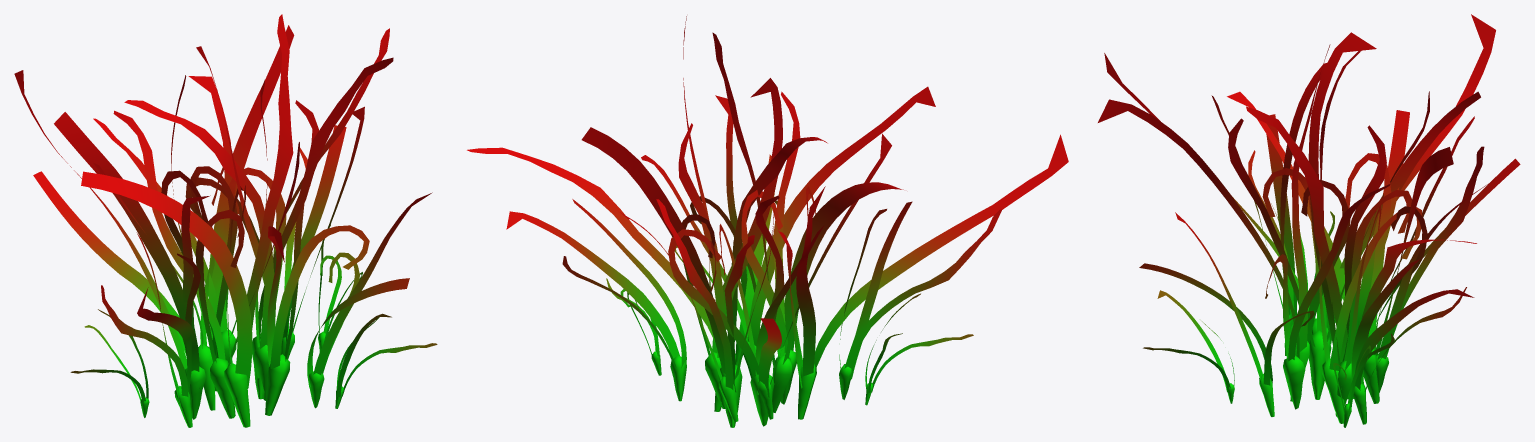
File: QXL_Ribbon_Grass_tbdpec3r_4_LOD0.fbx
The picture shows the model from 3 angles, left to right: view 1: azimuth 30°, elevation 25°; view 2: azimuth 150°, elevation 25°; view 3: azimuth 270°, elevation 25°; orthographic projection. The views are drawn at different scales.
Parts seen in each view (by area): view 1: Var5_LOD0; view 2: Var5_LOD0; view 3: Var5_LOD0.
Part boxes in pixels (x1,y1,x2,y2): Var5_LOD0: (14,14,437,427); Var5_LOD0: (467,16,1068,427); Var5_LOD0: (1098,14,1520,427).
Size of the model in its own units: 34.3 by 28.89 by 28.79.
